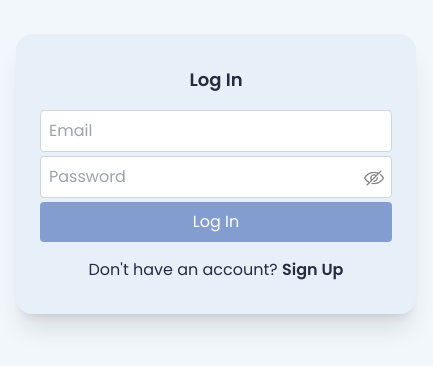
Login Page › displays an error message when verify throws an unexpected error
In the field with placeholder "Email": (216, 131) [40,110,392,152], type "test@example.com"
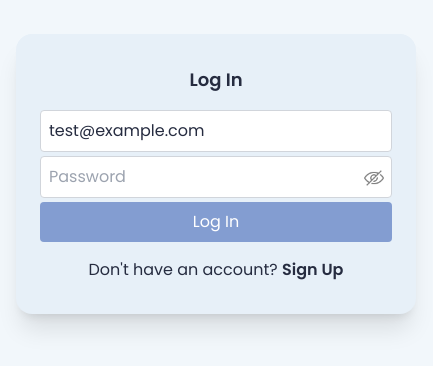
In the password field with placeholder "Password": (216, 177) [40,156,392,198], type "Password123"
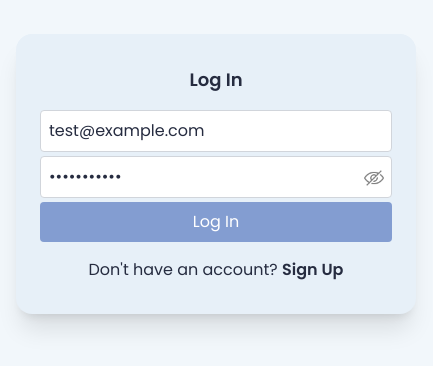
Click the button "Log In": (216, 222) [40,202,392,242]
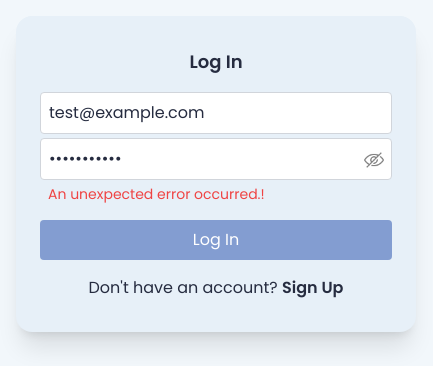
Now the text "An unexpected error occurred.!" is shown, box [48,184,265,204]
